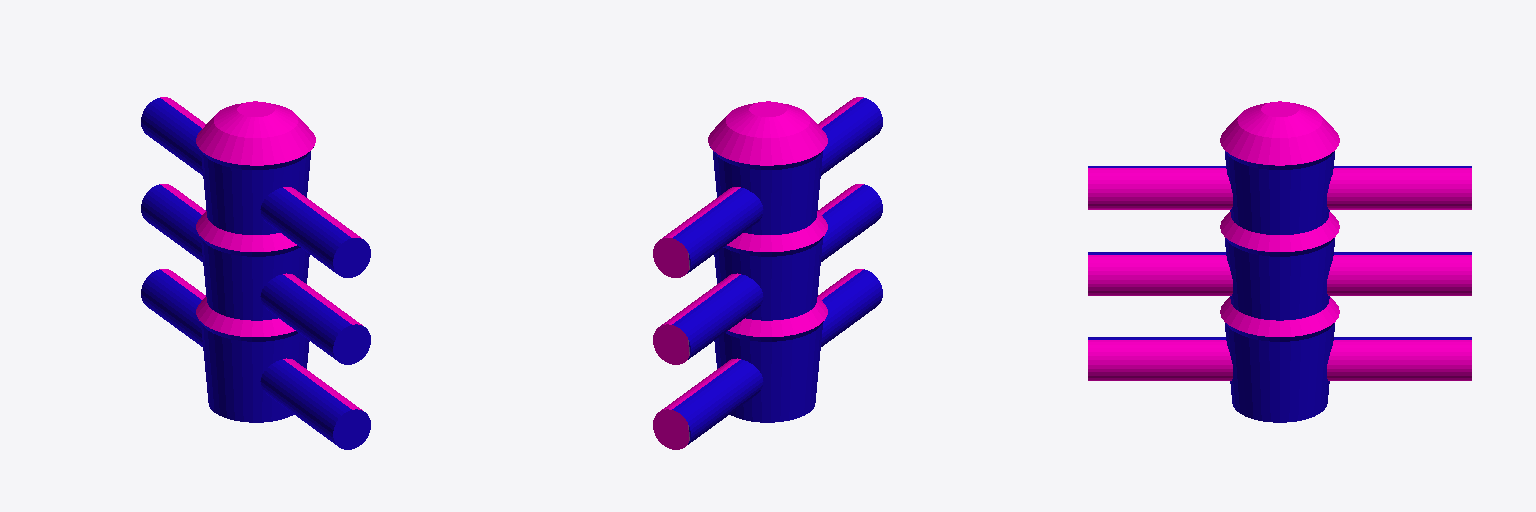
3 views of the same model, side by side, from view 1: azimuth 30°, elevation 25°; view 2: azimuth 150°, elevation 25°; view 3: azimuth 270°, elevation 25° (orthographic).
Visible parts, largest first — view 1: Cylinder; view 2: Cylinder; view 3: Cylinder.
Part boxes in pixels (x1,y1,x2,y2): Cylinder: (141, 97, 370, 449); Cylinder: (653, 97, 882, 449); Cylinder: (1088, 101, 1471, 422).
Bounding box in the file's own units: 2.52 × 6.78 × 8.06.
Materials: 3 (1 with a texture image).